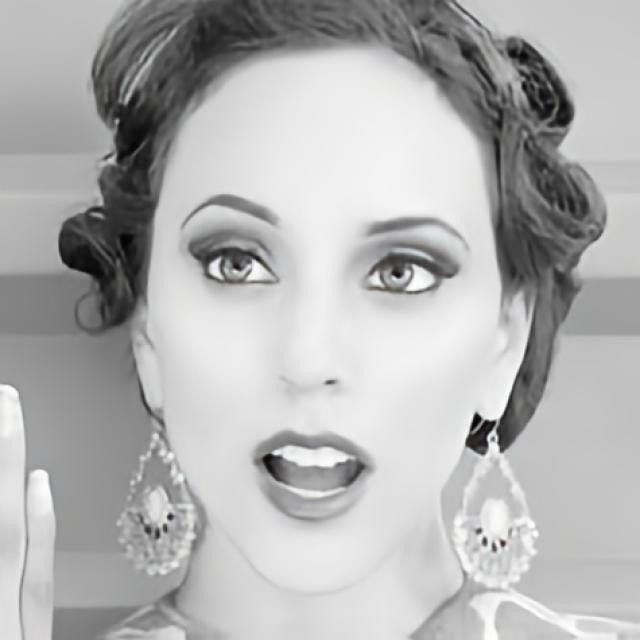surprise: (146, 38, 502, 596)
